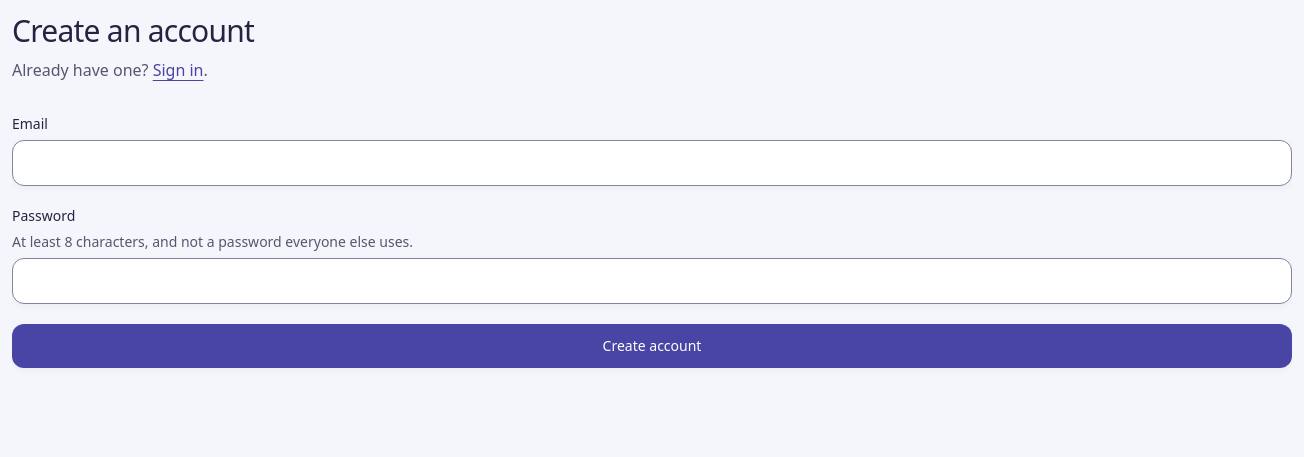
the confirmation after a successful submission › does not appear when the request failed
Type "learner@example.test" into the field labelled "Email".
click(652, 162); type("learner@example.test")  # box [12,140,1292,186]
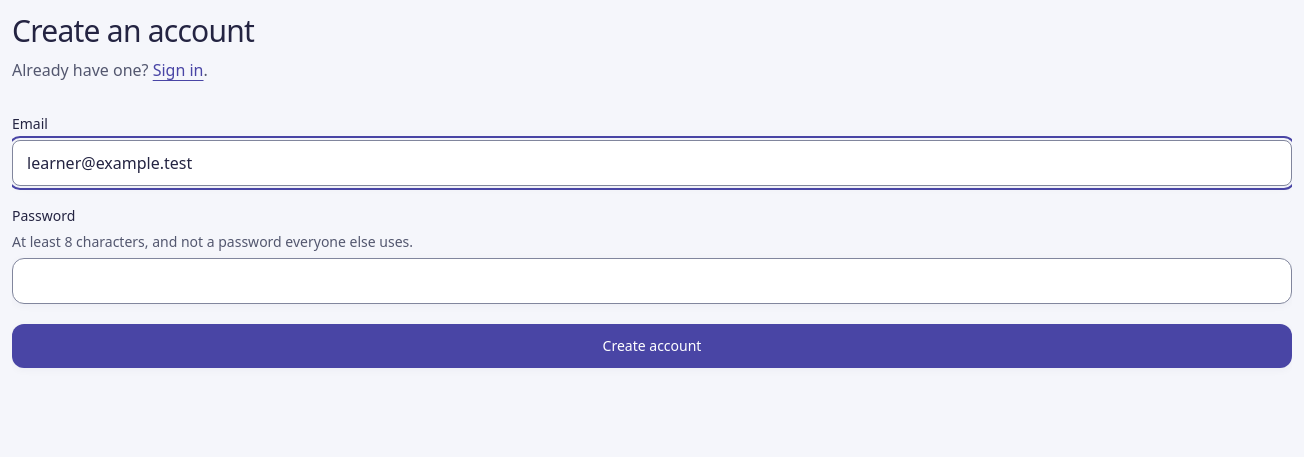
Type "a long enough password" into the password field labelled "Password".
click(652, 280); type("a long enough password")  # box [12,258,1292,304]
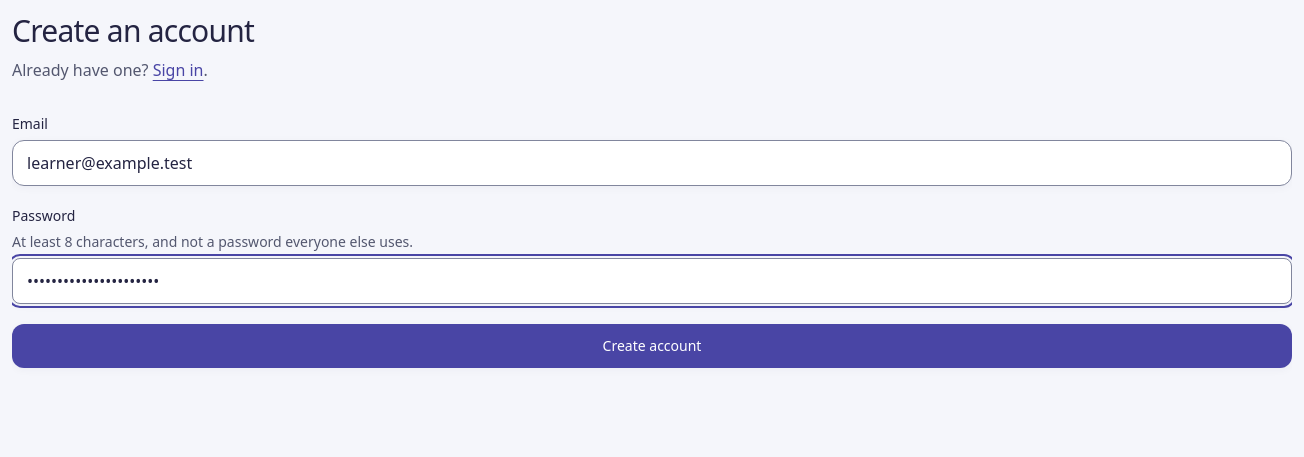
Click the button "Create account".
click(652, 346)  # box [12,324,1292,368]
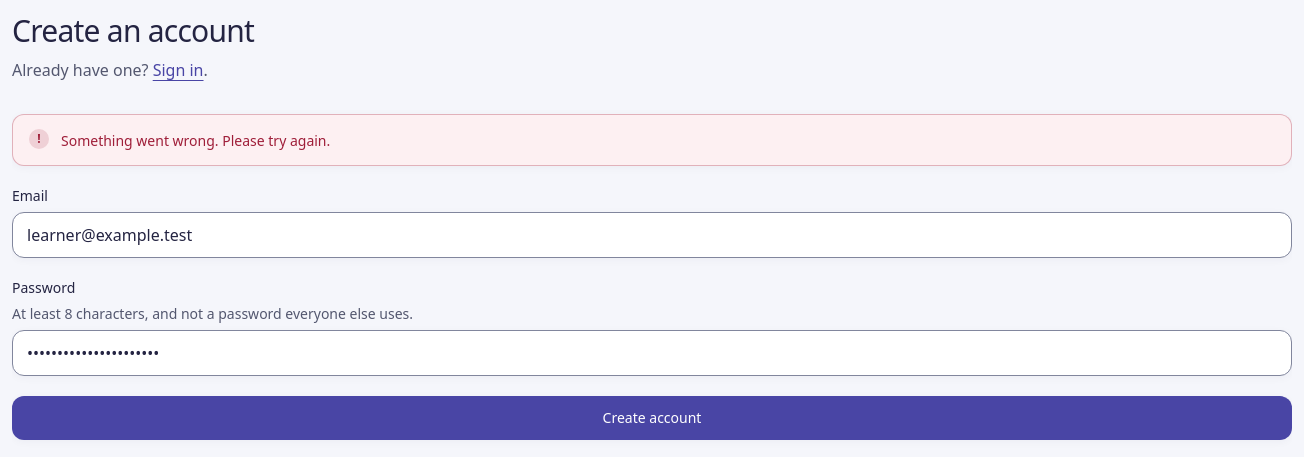
Expected: the button "Create account" is shown, [12,396,1292,440]
Result: the message "! Something went wrong. Please try again." is shown at [12,114,1292,166]
